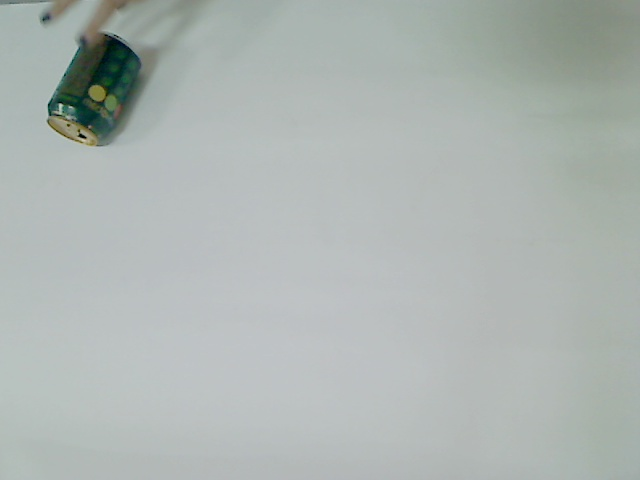can: (44, 27, 143, 149)
